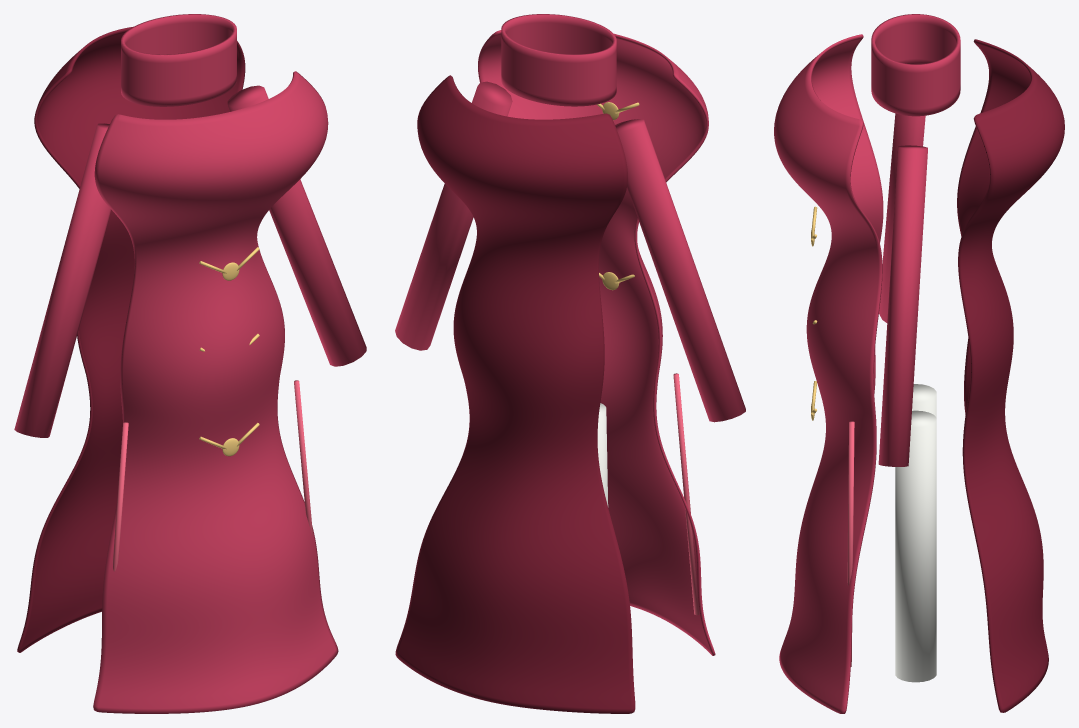
The model's file is BL_AODAI_002.glb.
3 renders of one model, left to right at view 1: azimuth 30°, elevation 25°; view 2: azimuth 150°, elevation 25°; view 3: azimuth 270°, elevation 25°, orthographic.
Parts seen in each view (by area): view 1: front ao dai panel, back ao dai panel, silk sleeve, structured high collar, silk sleeve.001, side slit piping, side slit piping.002; view 2: back ao dai panel, front ao dai panel, silk sleeve, structured high collar, silk sleeve.001, side slit piping, ivory trouser leg; view 3: front ao dai panel, back ao dai panel, ivory trouser leg.001, silk sleeve.001, structured high collar, silk sleeve, side slit piping.002, ivory trouser leg.
Part boxes in pixels (bbox=[...]): front ao dai panel: bbox=[93, 71, 338, 713]; back ao dai panel: bbox=[17, 26, 245, 652]; silk sleeve: bbox=[14, 123, 111, 437]; structured high collar: bbox=[121, 14, 236, 106]; silk sleeve.001: bbox=[227, 85, 366, 366]; side slit piping: bbox=[112, 422, 128, 571]; side slit piping.002: bbox=[294, 380, 313, 537]; back ao dai panel: bbox=[395, 75, 635, 713]; front ao dai panel: bbox=[478, 30, 715, 655]; silk sleeve: bbox=[615, 119, 745, 422]; structured high collar: bbox=[501, 14, 616, 106]; silk sleeve.001: bbox=[395, 81, 512, 350]; side slit piping: bbox=[673, 373, 699, 615]; ivory trouser leg: bbox=[597, 403, 608, 507]; front ao dai panel: bbox=[774, 34, 883, 713]; back ao dai panel: bbox=[957, 39, 1064, 712]; ivory trouser leg.001: bbox=[895, 410, 936, 682]; silk sleeve.001: bbox=[878, 145, 927, 466]; structured high collar: bbox=[871, 14, 960, 116]; silk sleeve: bbox=[879, 113, 925, 322]; side slit piping.002: bbox=[847, 421, 854, 666]; ivory trouser leg: bbox=[912, 384, 936, 417].
Size of the model in its own units: 1.44 by 2.45 by 1.04.
